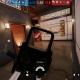Character: (39, 38, 40, 41)
Friend_label: (3, 42, 9, 44), (4, 47, 7, 49)
Head: (40, 38, 40, 39)
